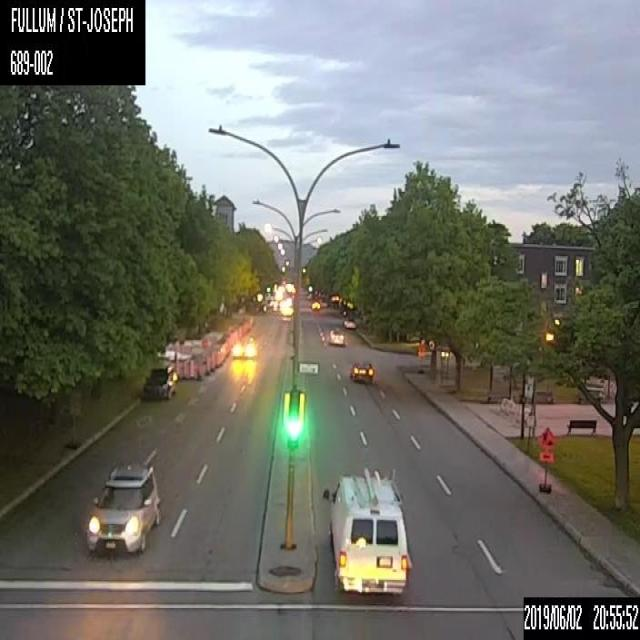construction: (536, 427, 554, 493), (417, 342, 425, 372), (195, 359, 203, 380), (186, 359, 194, 378), (180, 360, 186, 378), (204, 355, 209, 373), (201, 338, 207, 346)
vehicle: (322, 472, 407, 593), (84, 460, 162, 560), (142, 361, 176, 399), (348, 358, 374, 382), (232, 337, 257, 359), (326, 326, 346, 346), (342, 316, 356, 329), (210, 351, 215, 371), (311, 300, 320, 311)
